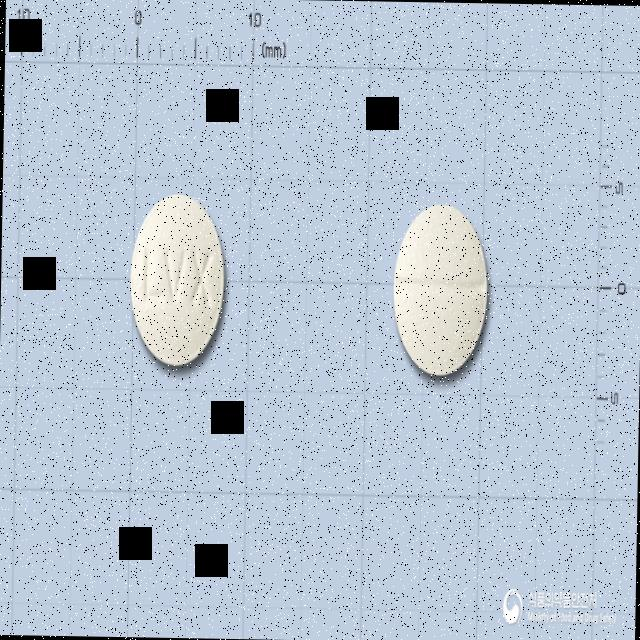Revloxin Tab: (128, 190, 226, 368)
